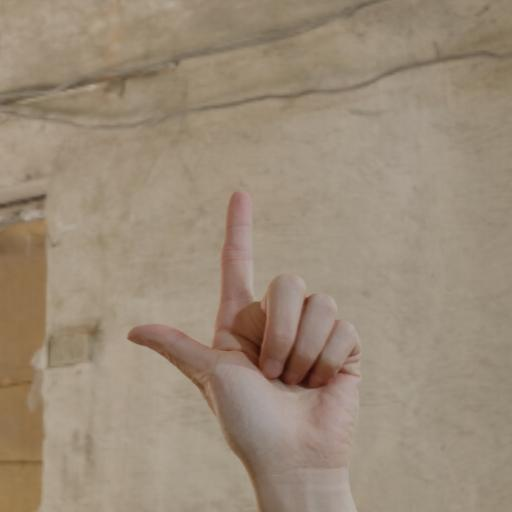L: (108, 175, 396, 495)
